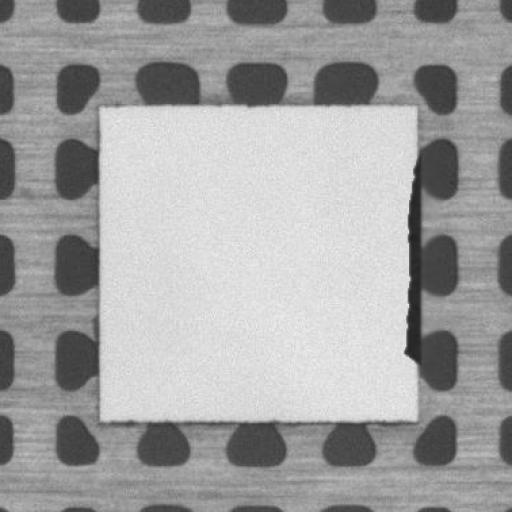DIE_BROKEN: (401, 160, 423, 372)
